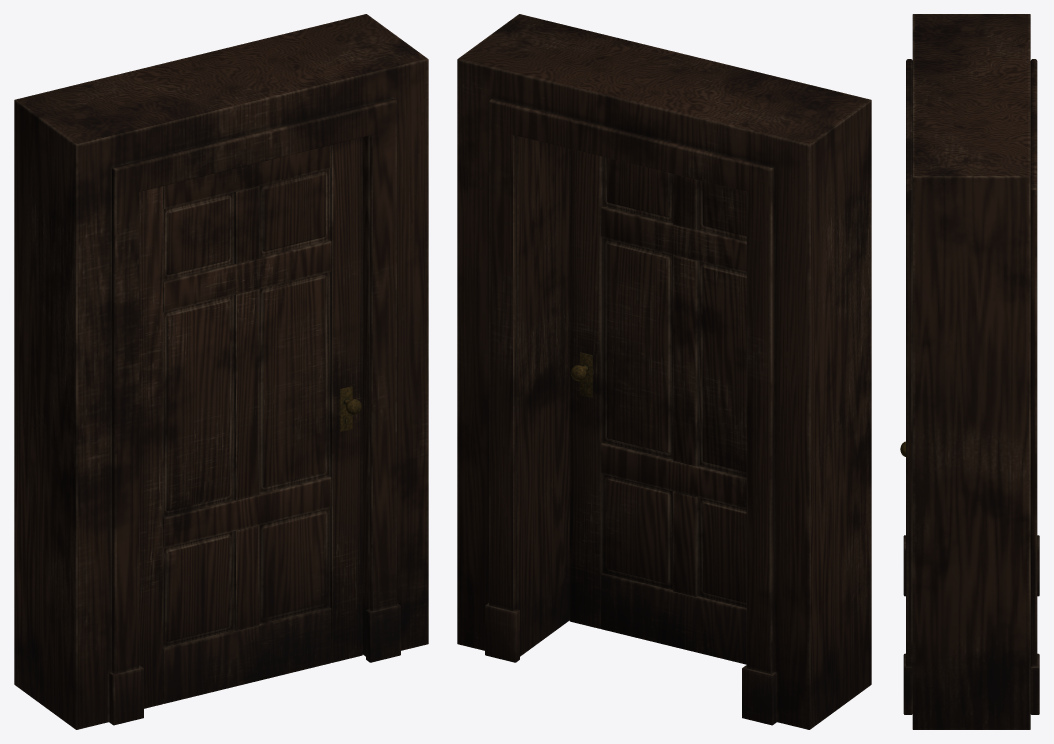
File: door_vera.glb
The picture shows the model from 3 angles, left to right: view 1: azimuth 30°, elevation 25°; view 2: azimuth 150°, elevation 25°; view 3: azimuth 270°, elevation 25°; orthographic projection. The views are drawn at different scales.
Visible parts, largest first — view 1: Surround, Leaf, Brass; view 2: Surround, Leaf, Brass; view 3: Surround.
Boxes of the visible parts, bbox=[...] form: Surround: bbox=[14, 14, 428, 729]; Leaf: bbox=[139, 137, 362, 708]; Brass: bbox=[339, 386, 361, 431]; Surround: bbox=[457, 14, 871, 729]; Leaf: bbox=[569, 149, 746, 664]; Brass: bbox=[570, 352, 592, 397]; Surround: bbox=[903, 14, 1039, 729].
Size of the model in its own units: 1.47 by 2.33 by 0.531.
Materials: 3 (3 with a texture image).
